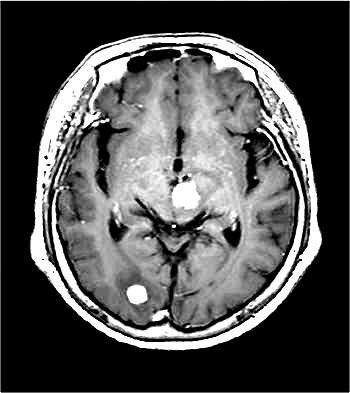Normal_Brain: (1, 1, 350, 393)
